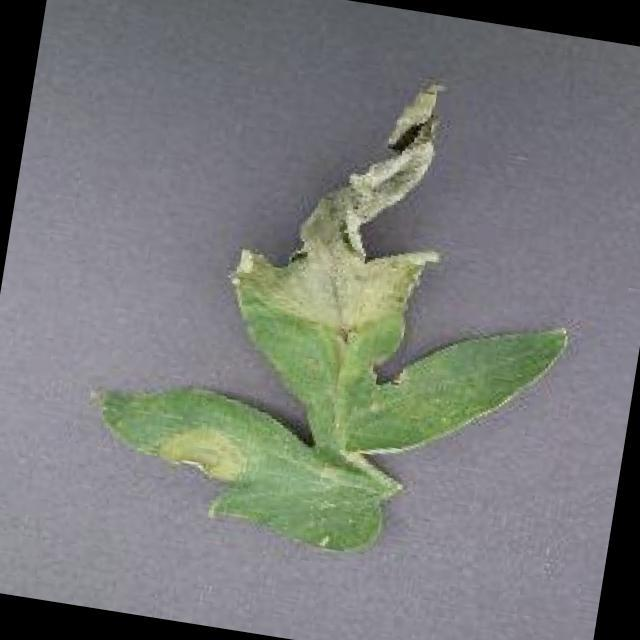Tomato late blight leaf: (67, 29, 602, 587)
